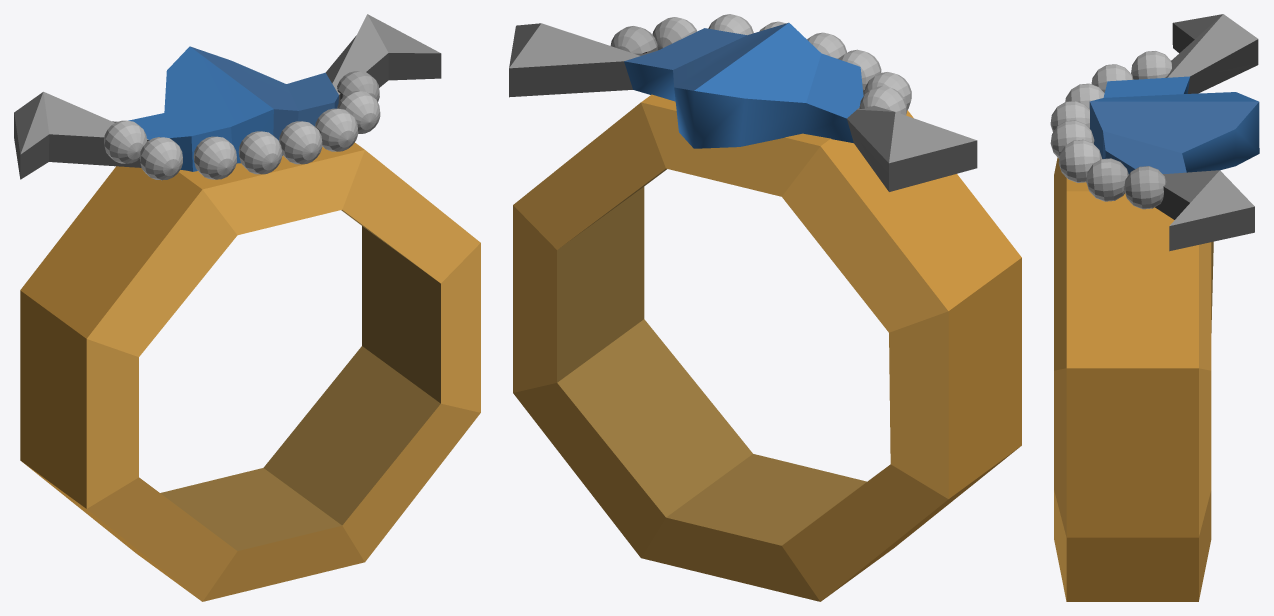
File: Item_Ring_11.fbx
3 renders of one model, left to right at view 1: azimuth 30°, elevation 25°; view 2: azimuth 150°, elevation 25°; view 3: azimuth 270°, elevation 25°, orthographic. The views are drawn at different scales.
Parts seen in each view (by area): view 1: Lera_Item_Ring_11; view 2: Lera_Item_Ring_11; view 3: Lera_Item_Ring_11.
Part boxes in pixels (bbox=[...]): Lera_Item_Ring_11: bbox=[14, 14, 480, 601]; Lera_Item_Ring_11: bbox=[509, 14, 1021, 601]; Lera_Item_Ring_11: bbox=[1050, 14, 1259, 601].
Size of the model in its own units: 5.39 by 5.81 by 2.34.
